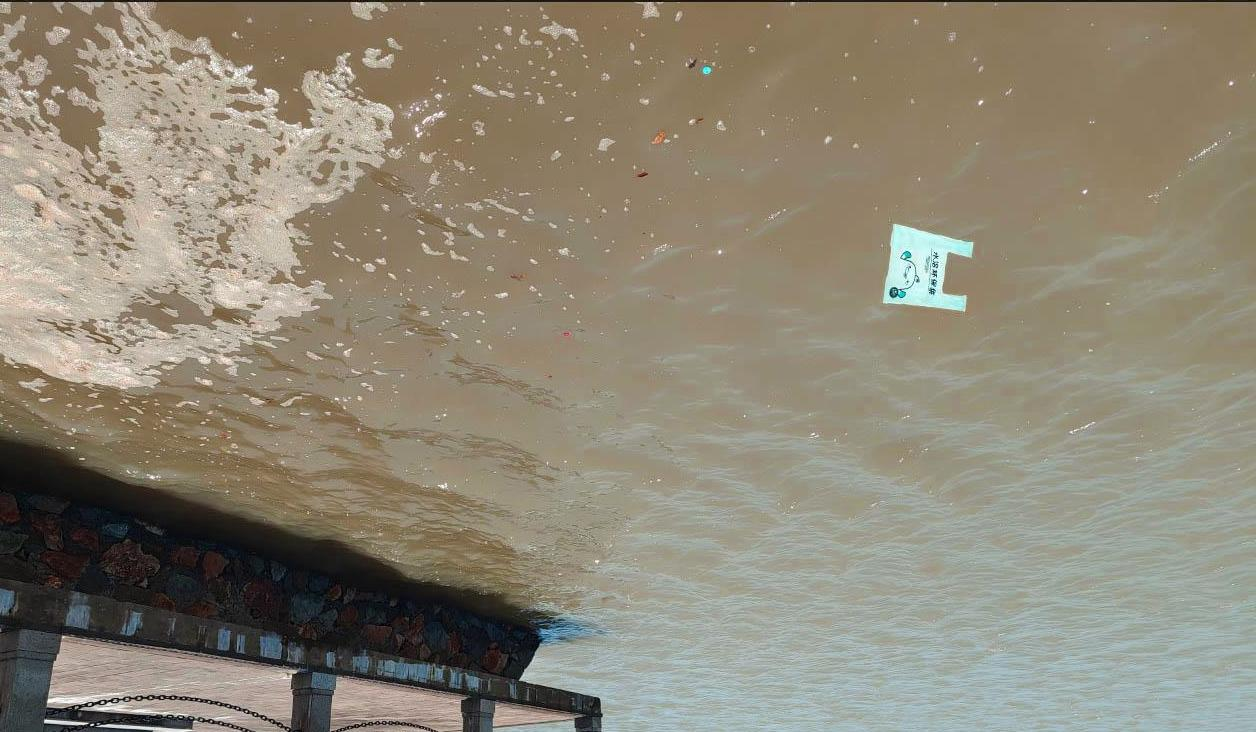Trash: (883, 221, 974, 311)
